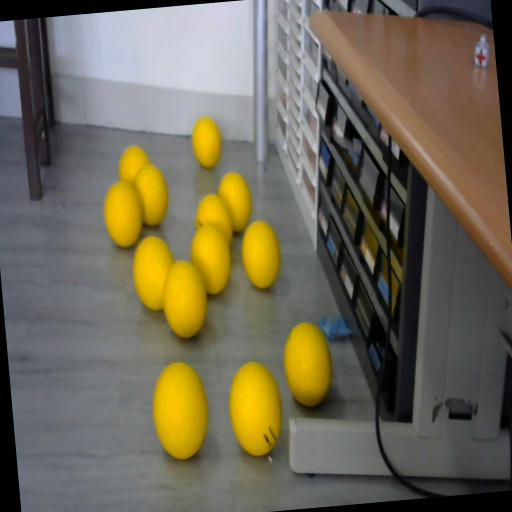FUEL: (148, 358, 212, 460), (224, 358, 286, 457), (280, 320, 334, 409), (130, 234, 177, 312), (188, 222, 234, 296), (238, 217, 284, 290), (102, 180, 146, 248), (132, 162, 172, 229), (216, 170, 254, 234), (190, 116, 223, 169)
